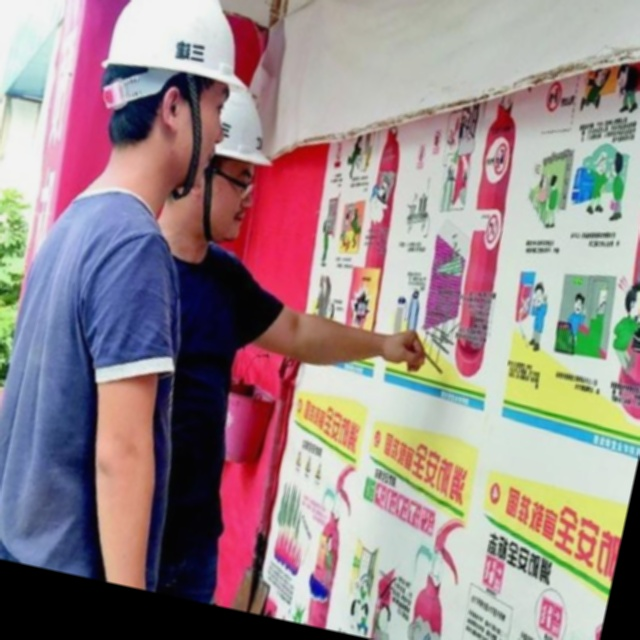Con_Casco: (84, 0, 250, 200)
